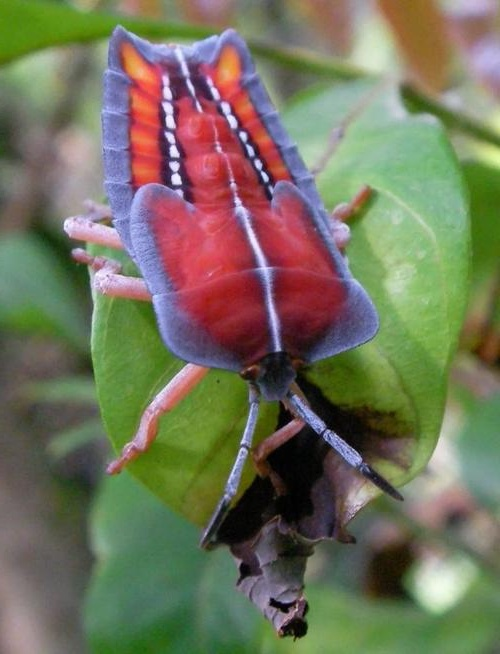Stink_Bug: (137, 20, 325, 418)
